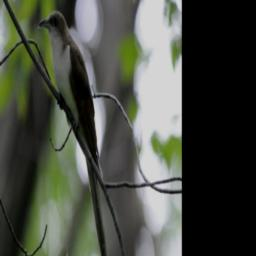Cuckoo: (38, 6, 111, 256)
